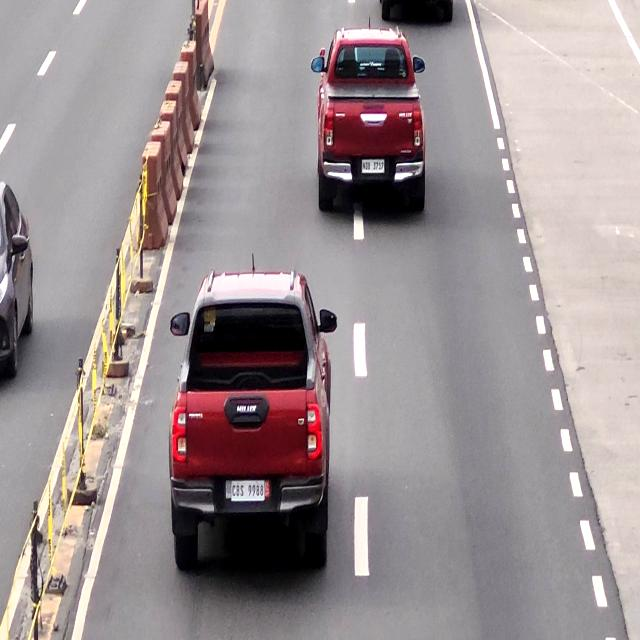Car: (170, 272, 336, 574), (311, 28, 425, 217)
License-Plate: (231, 480, 265, 502), (361, 157, 385, 174)
